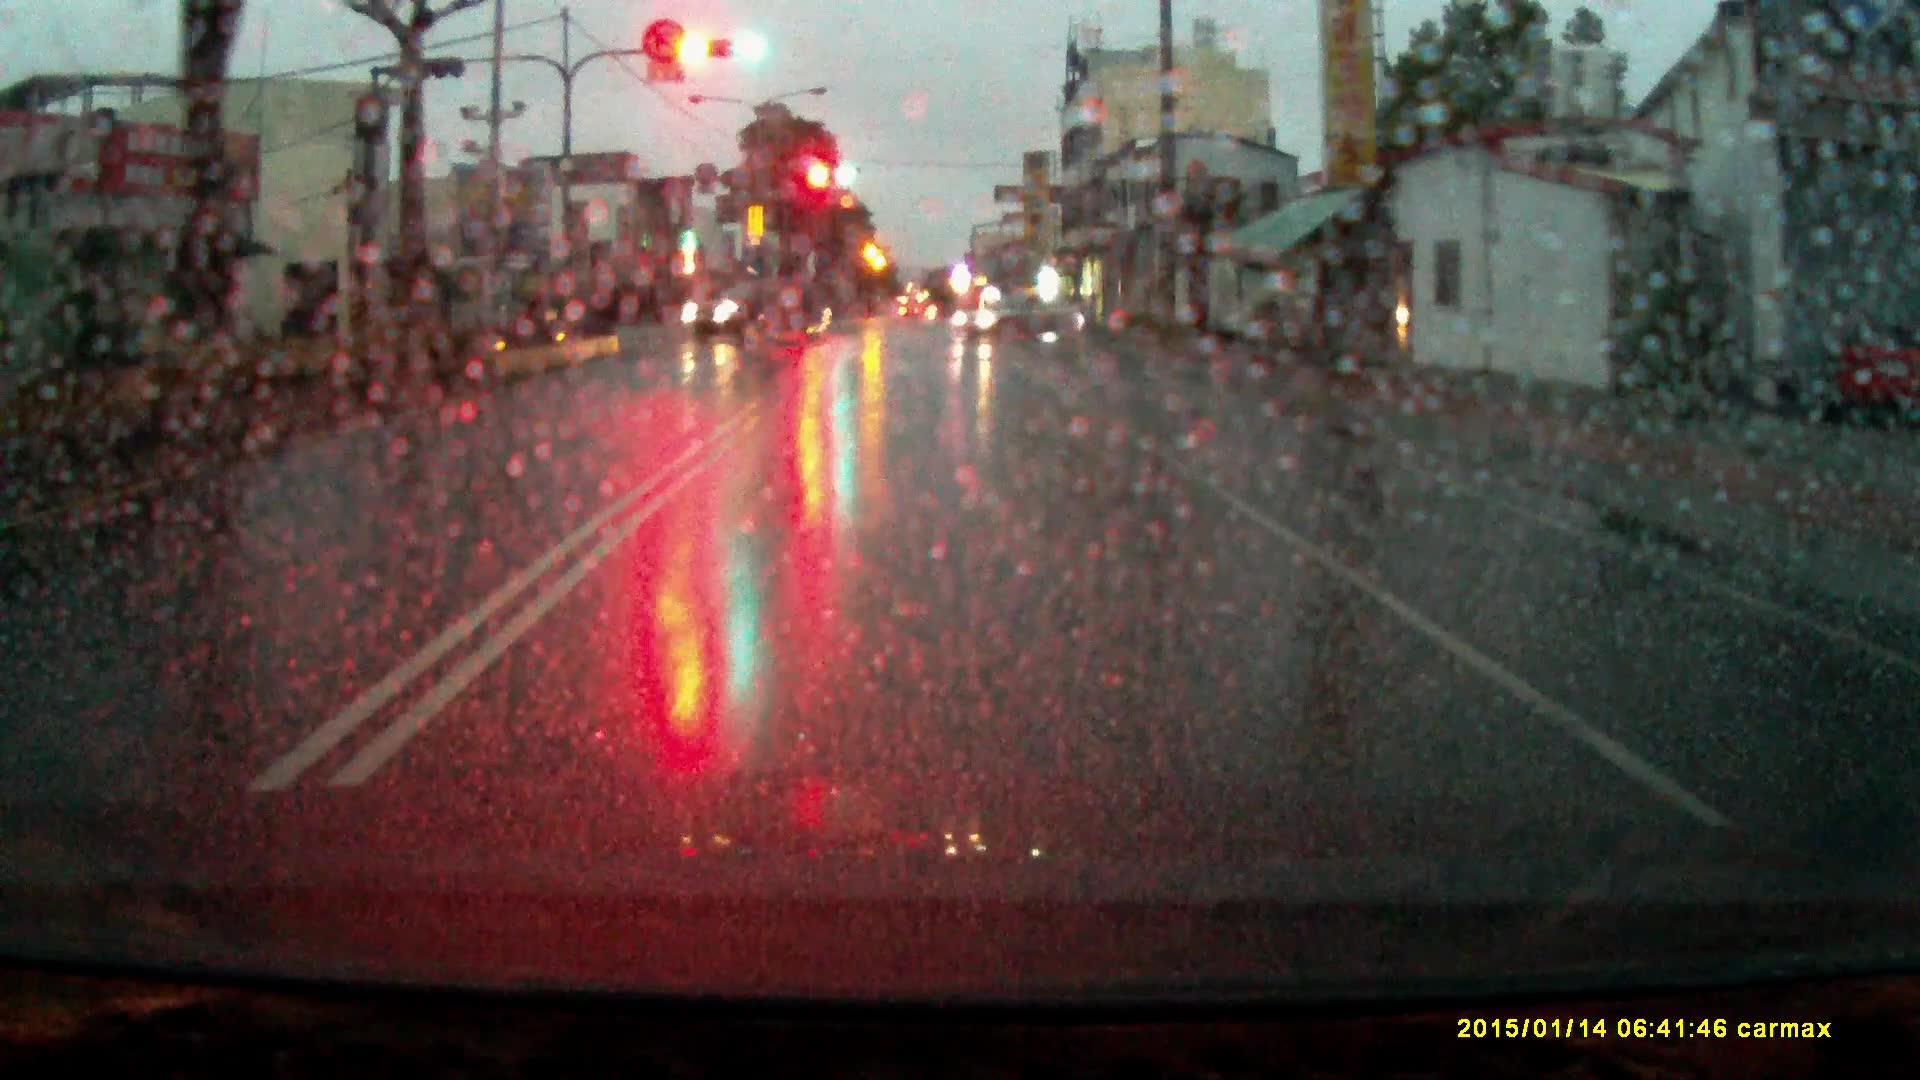vehicle: (680, 274, 833, 344), (948, 293, 1085, 339)
